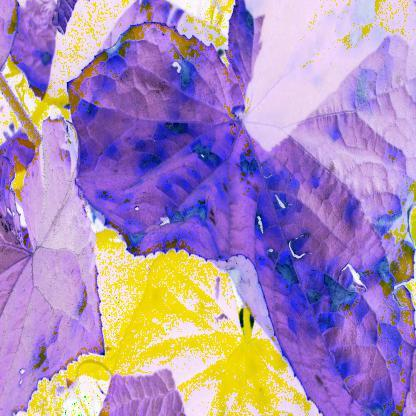Tomato mold leaf: (58, 17, 416, 416)
